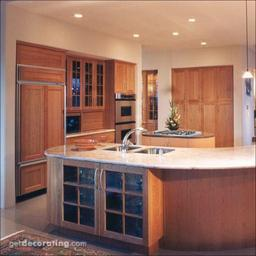Lavaplatos: (100, 125, 178, 159)
